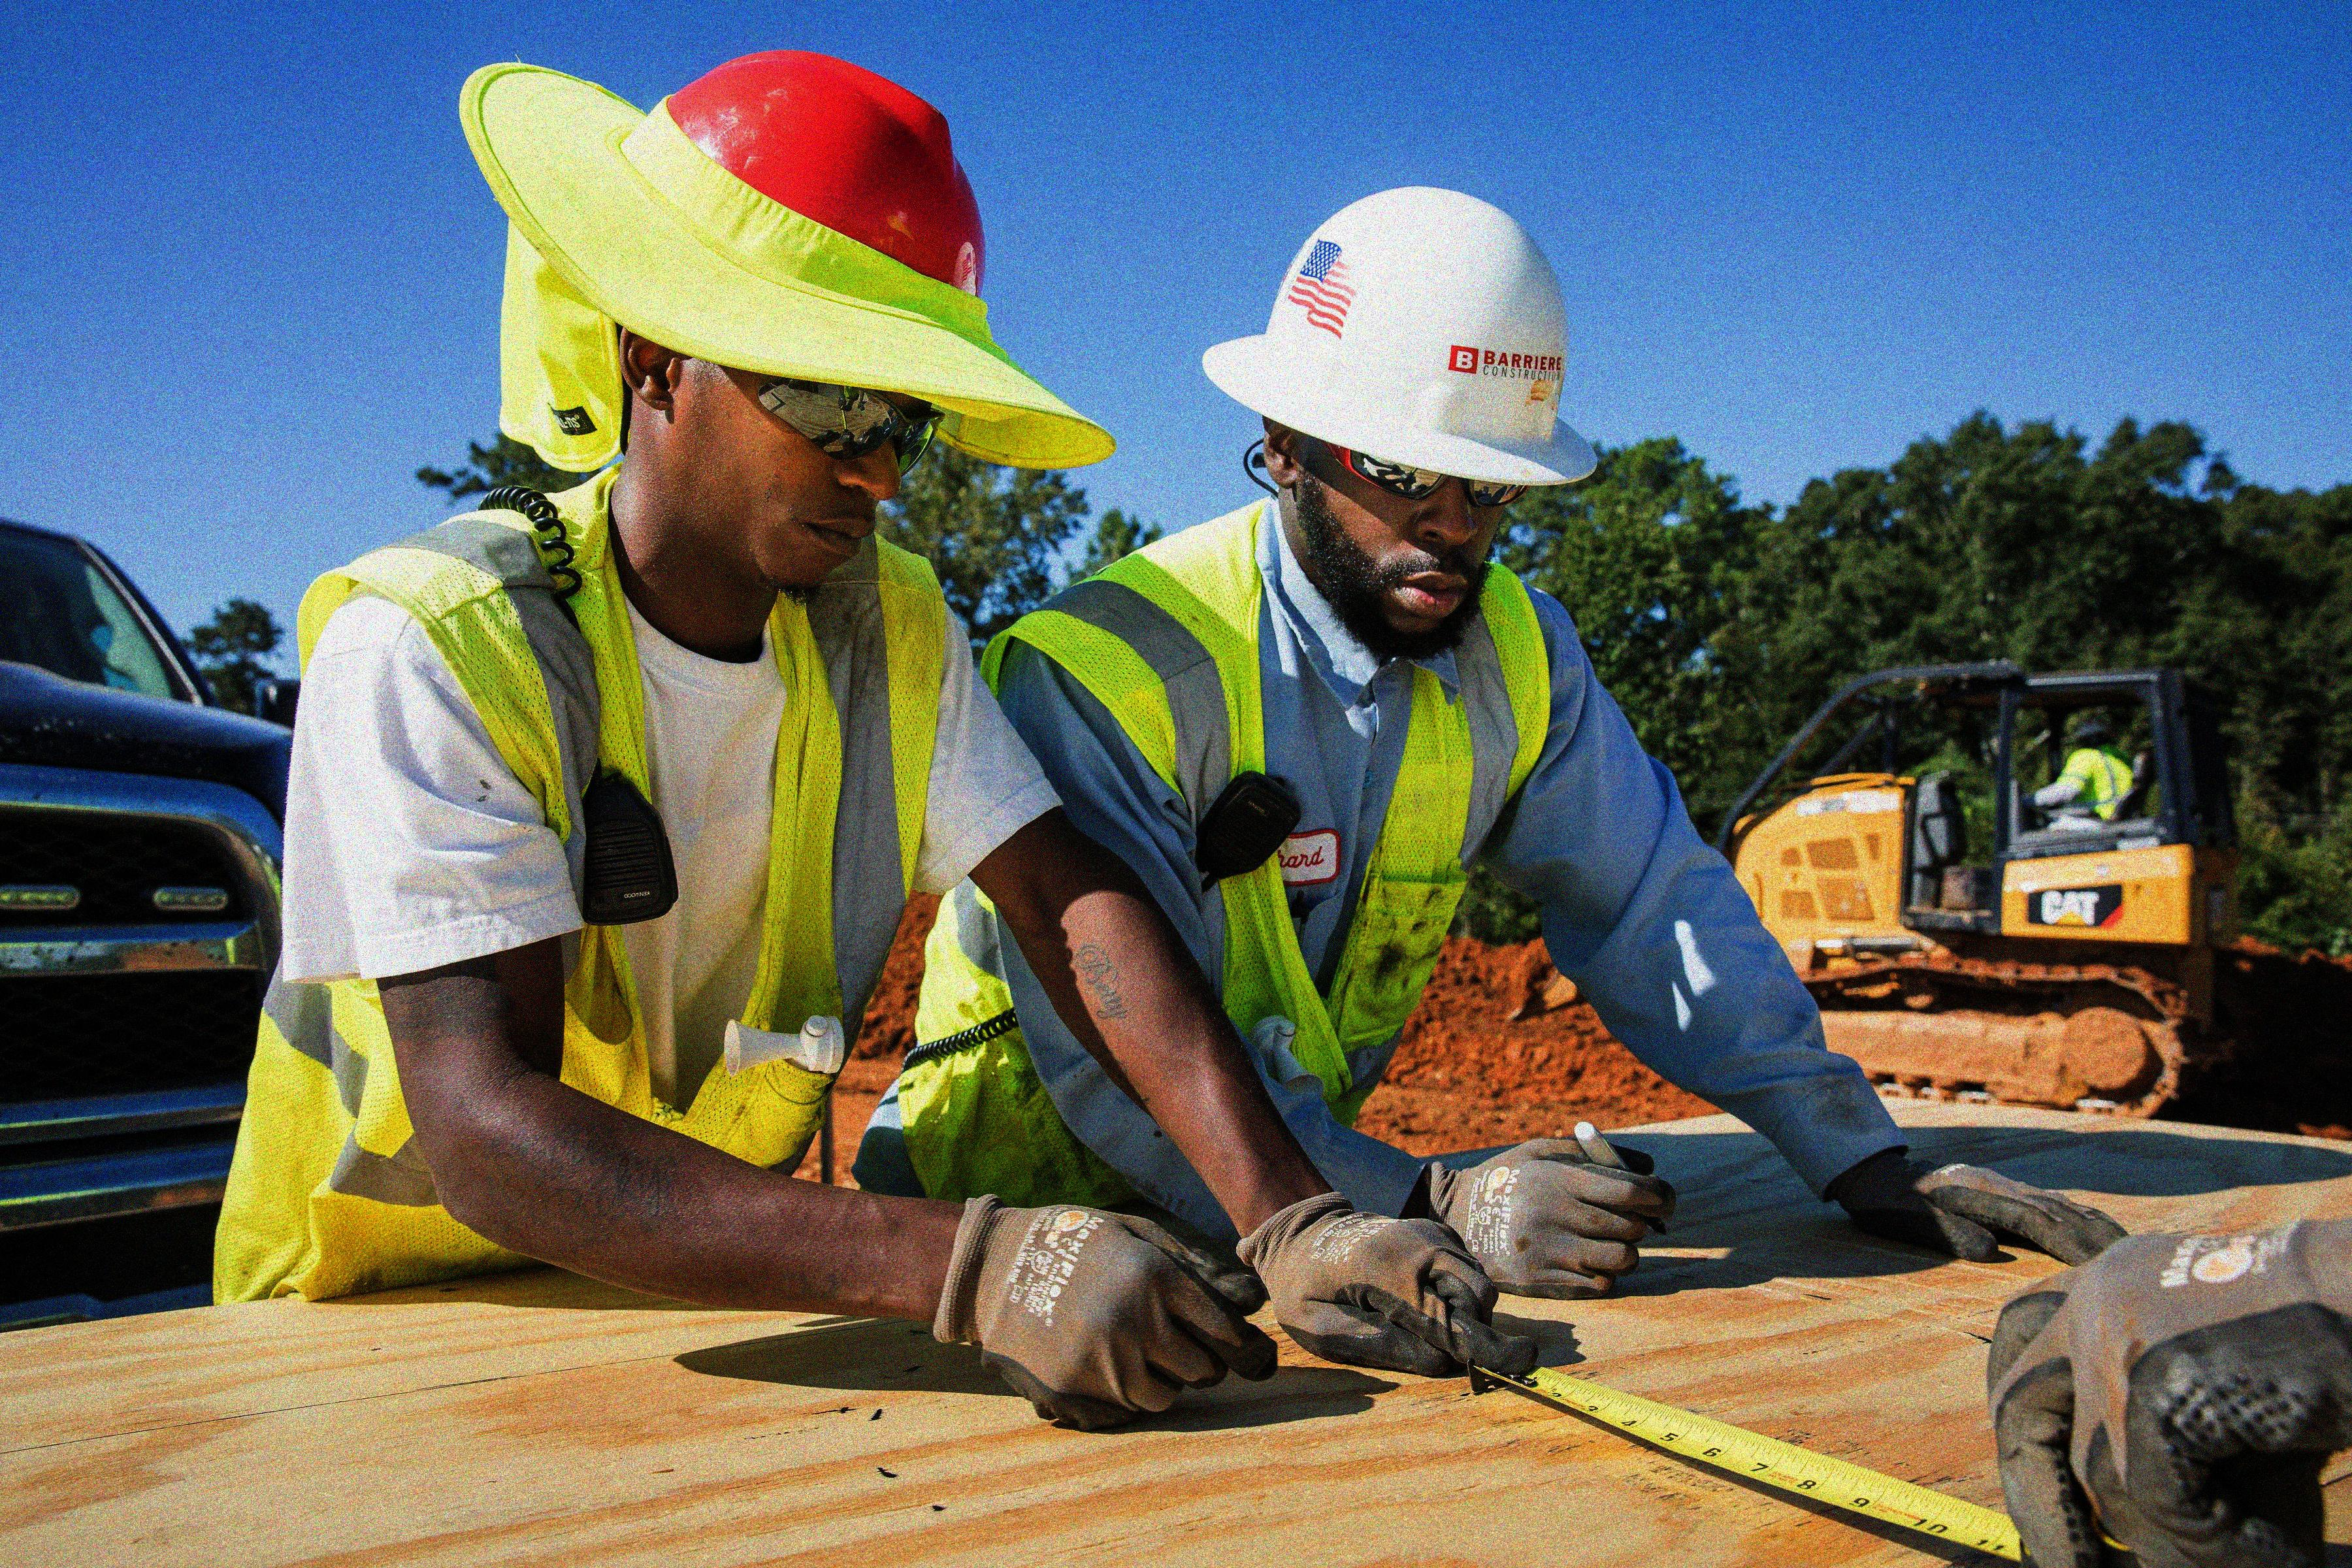helmet: (607, 44, 992, 586), (1195, 180, 1601, 656), (2074, 712, 2116, 749)
